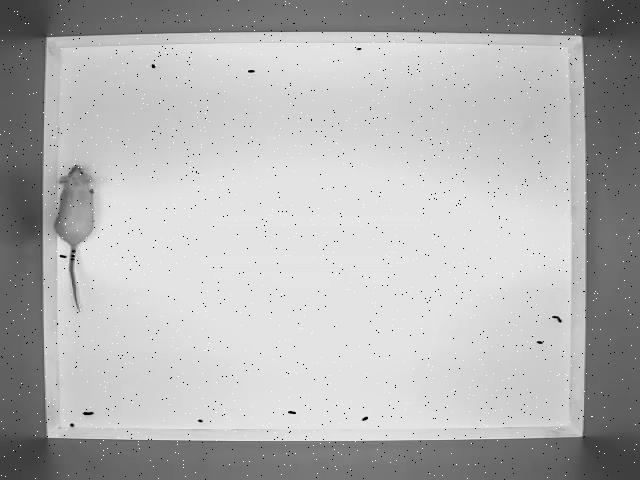Tikus: (54, 162, 98, 311)
